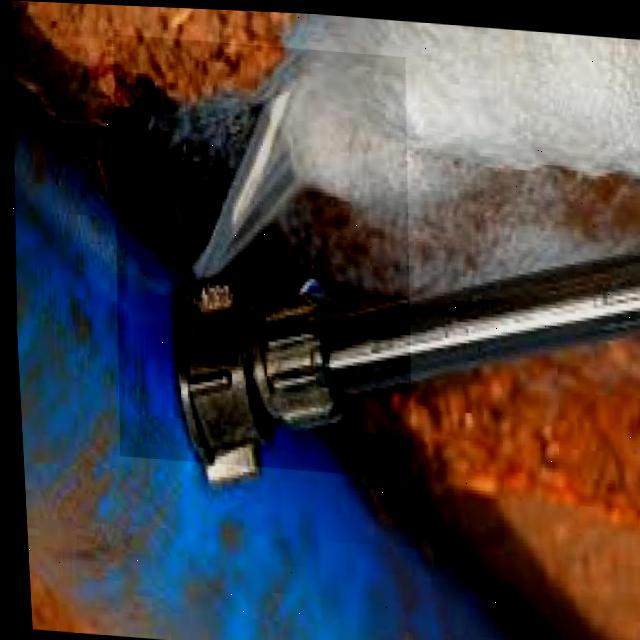corrosion: (118, 166, 289, 340)
